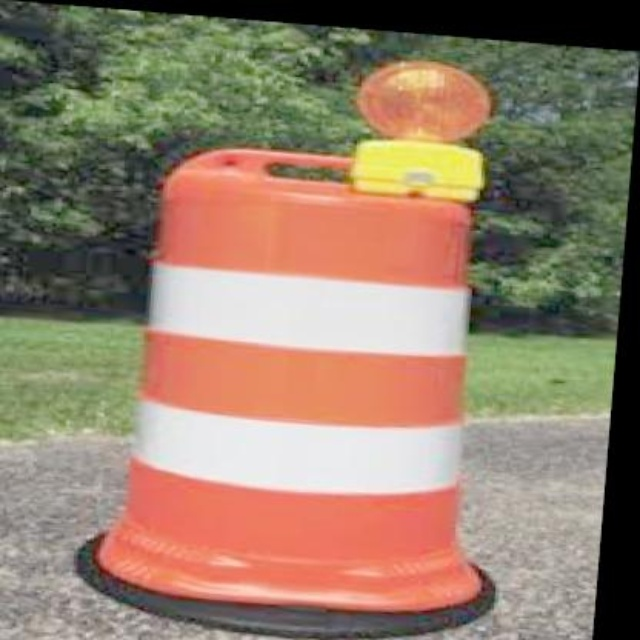obstacle: (32, 162, 515, 619)
